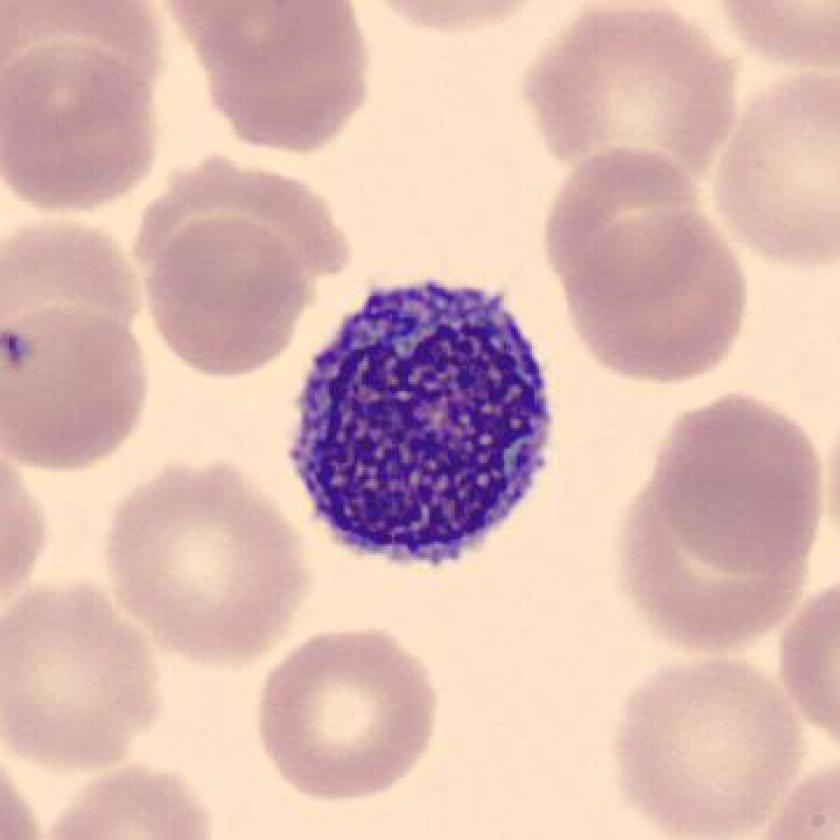monocyte: (269, 253, 575, 591)
